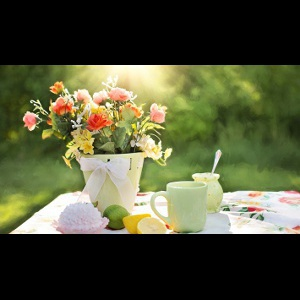flowerpot: (75, 147, 148, 218)
